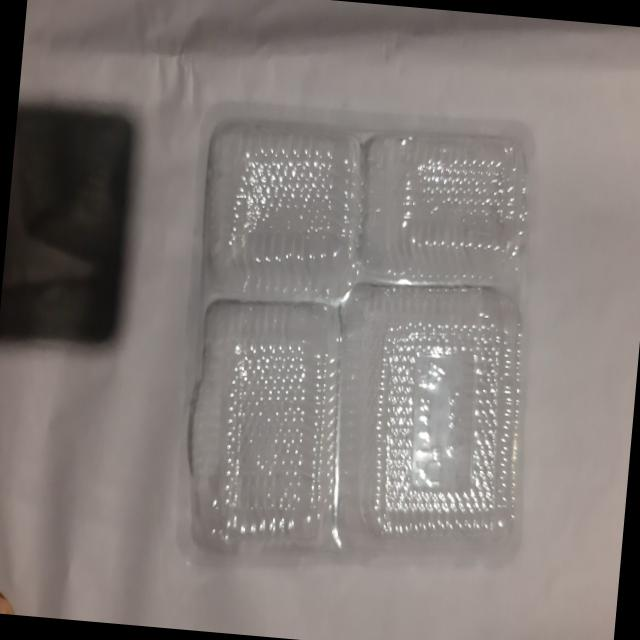KemasanPlastik: (171, 101, 552, 578)
